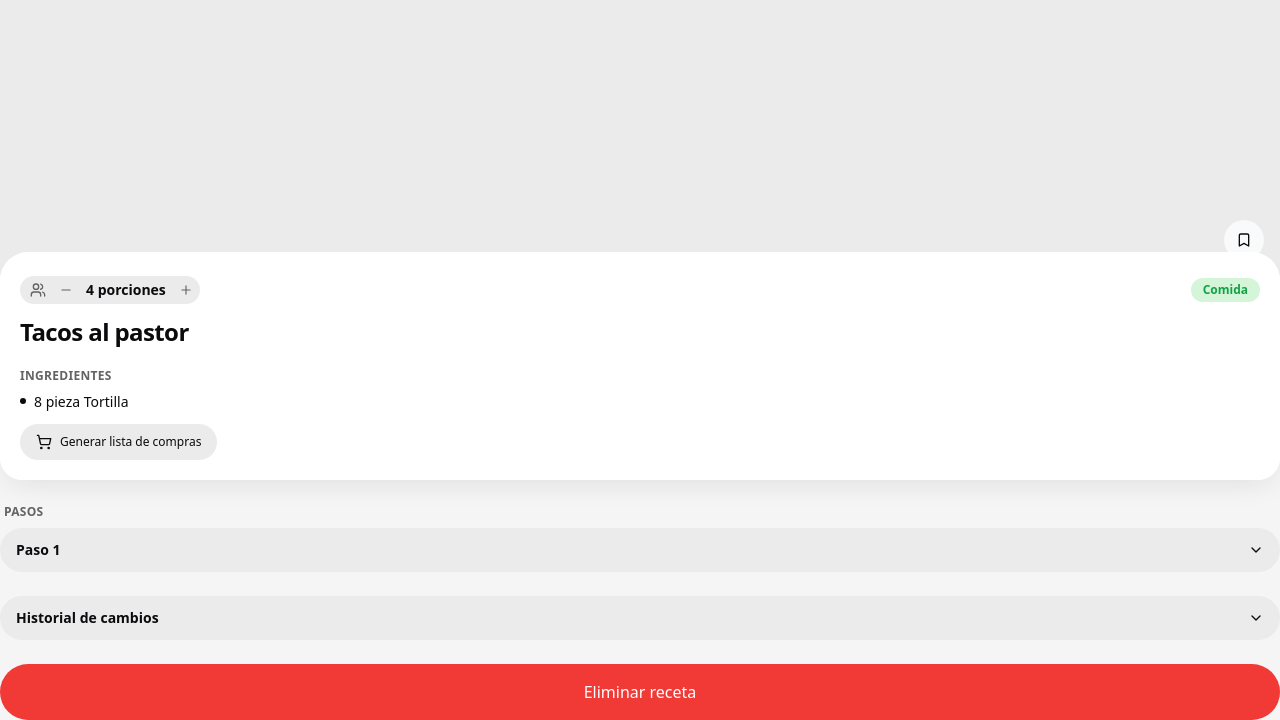
Test: RecipeDetail — history + delete confirmations (recipes-module) › expanding history shows actor, timestamp, and reason per entry with no field-level diff
(page scrolled)
Click the button "Historial de cambios". click: (87, 618)
box: [0,596,1279,640]
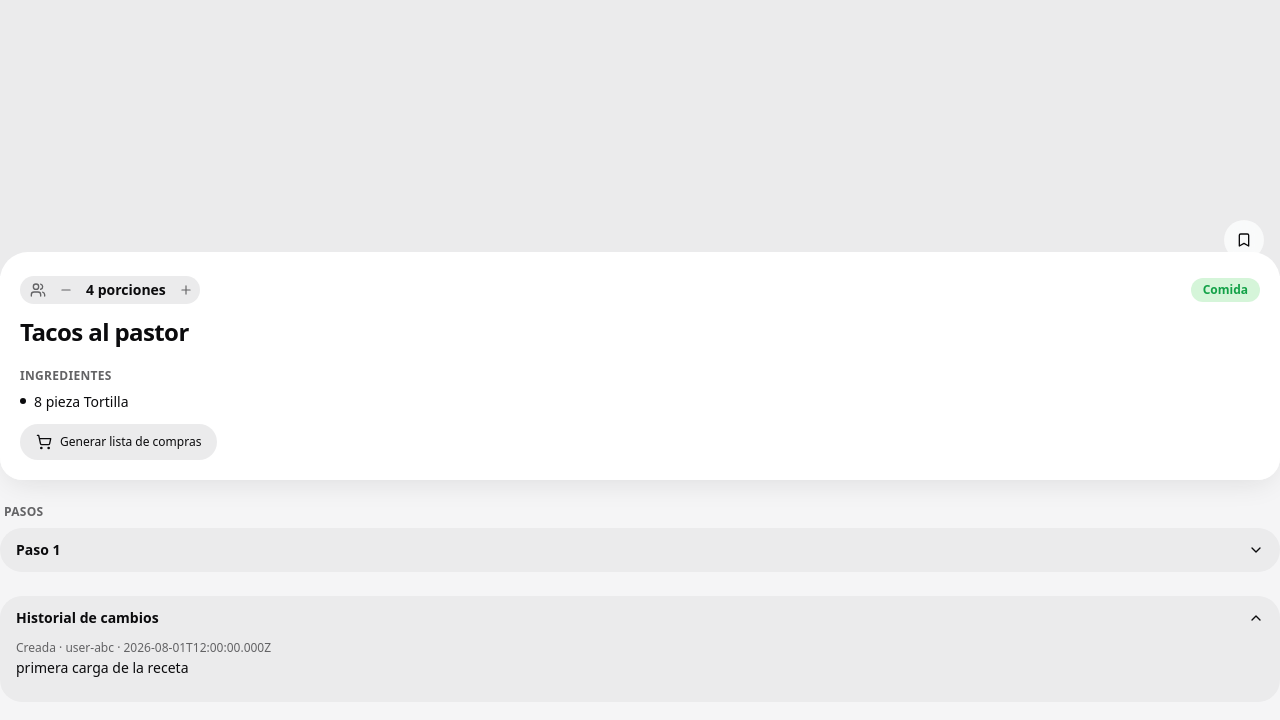
Now the text "primera carga de la receta" is shown, box [16,658,188,677]
Now the text "Creada · user-abc · 2026-08-01T12:00:00.000Z" is shown, box [16,639,271,656]
